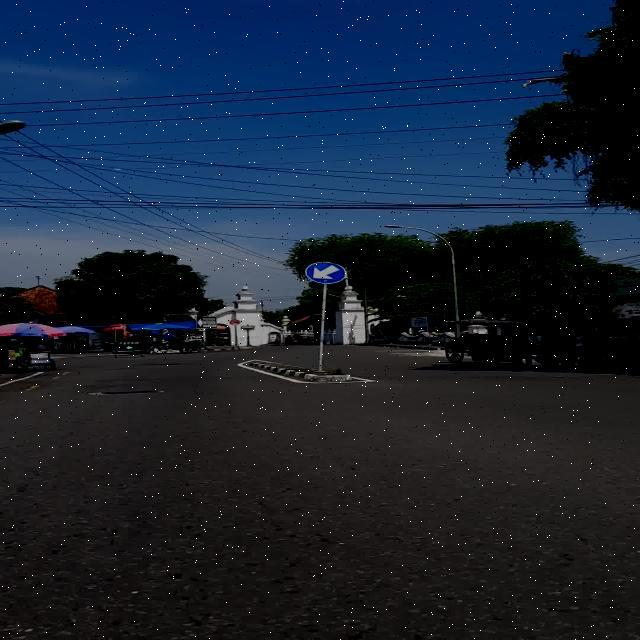Lajur Kiri: (304, 262, 346, 284)
